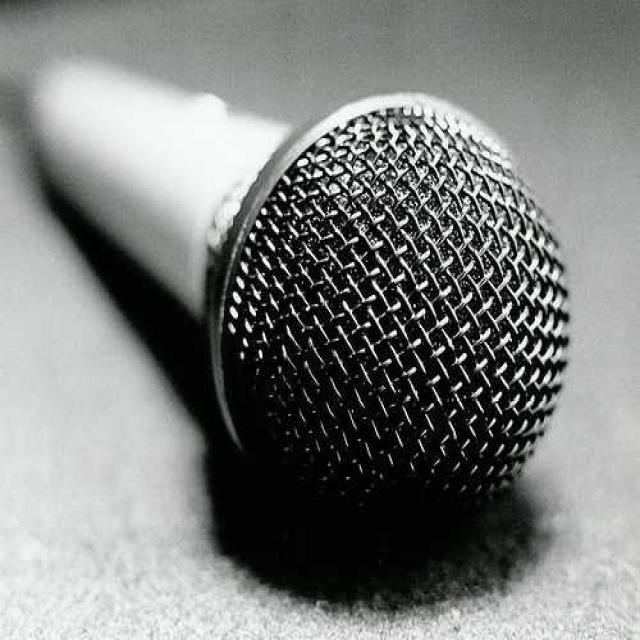microphone: (20, 56, 566, 516)
